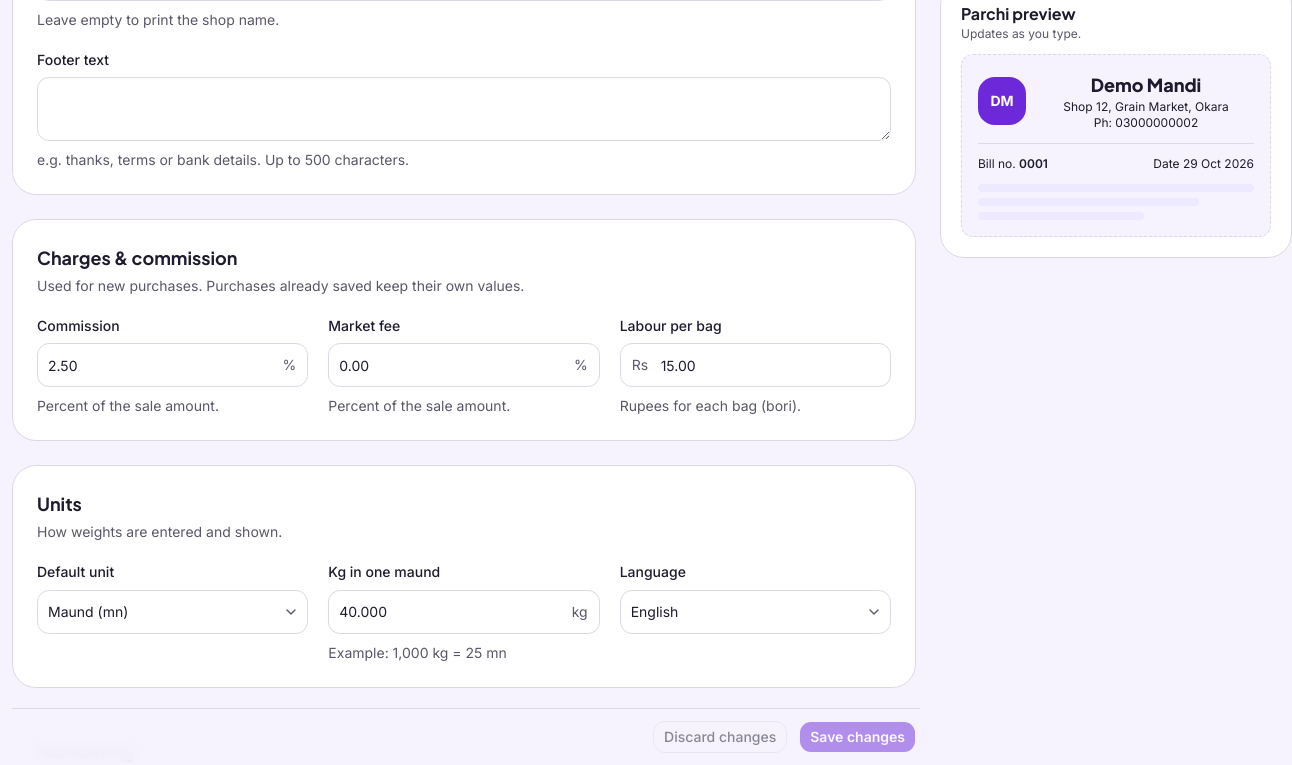
Test: SettingsForm › saving › sends nothing when the browser finds a mistake
The image size is (1292, 765).
(page scrolled)
Replace the text in the field labelled "Commission" with "101" at (173, 365), box [37,343,308,387]
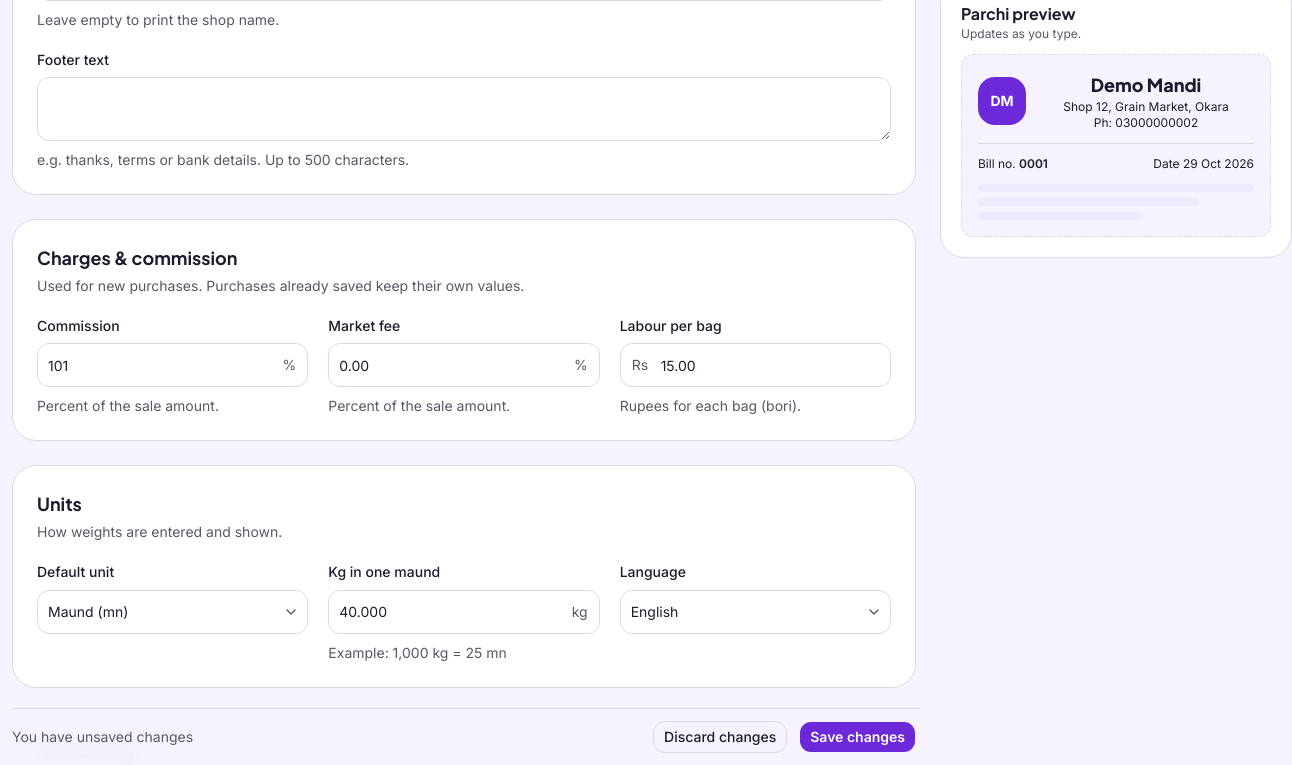
Replace the text in the field labelled "Kg in one maund" with "0" at (464, 612), box [328,590,600,634]
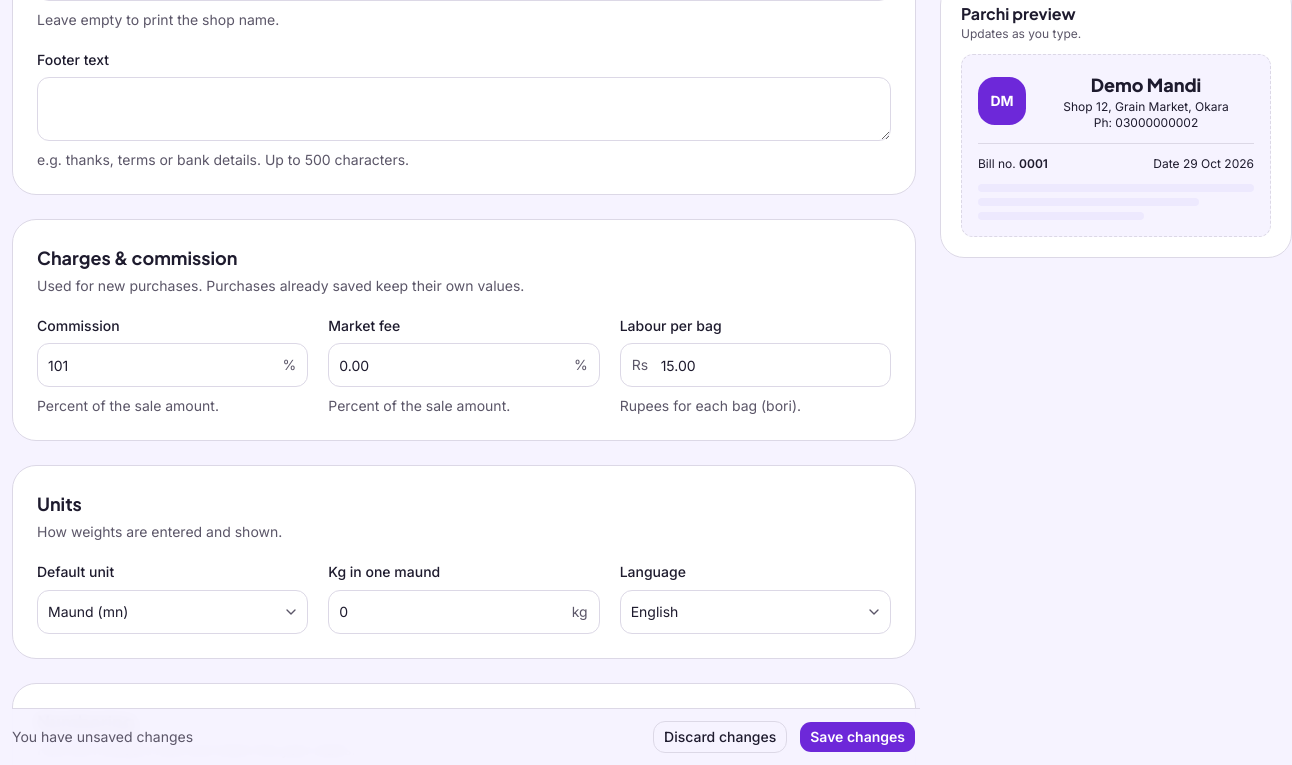
Click the button "Save changes" at (858, 737), box [799,721,916,753]
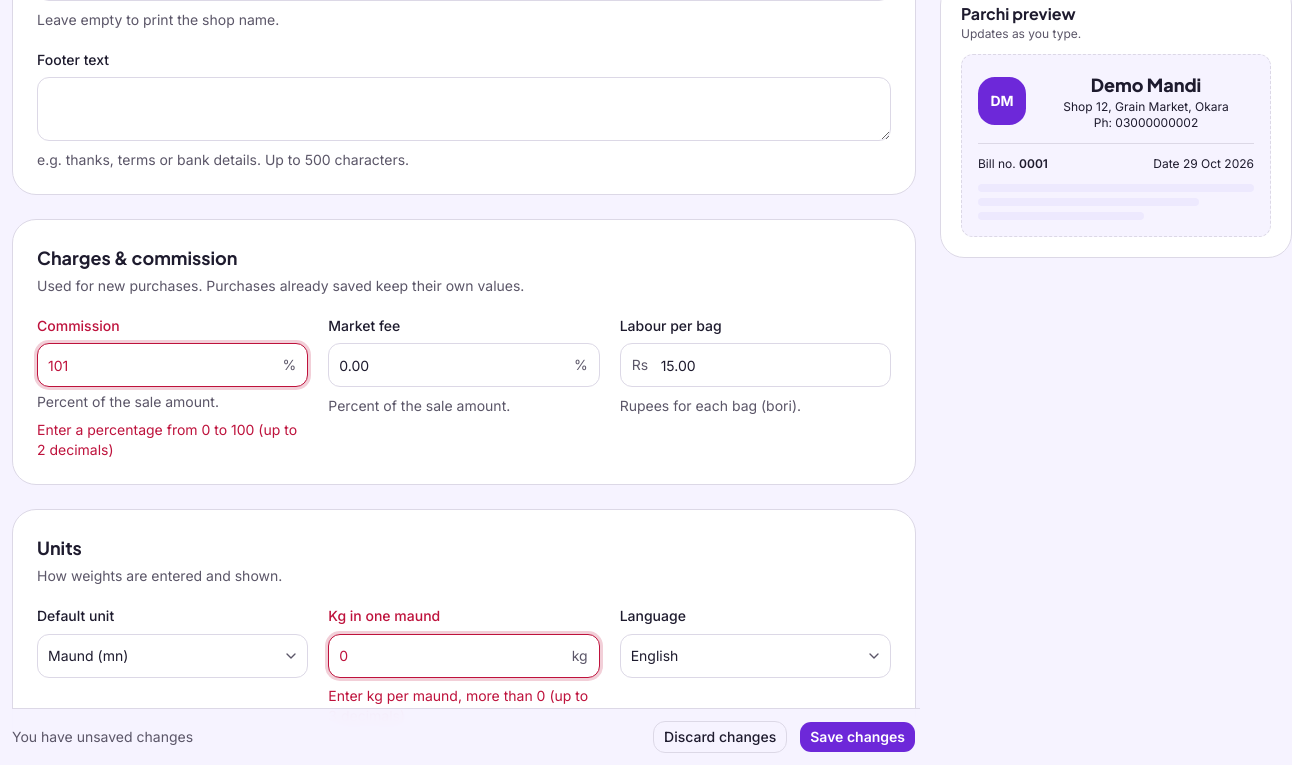
Expected: the text "Enter a percentage from 0 to 100 (up to 2 decimals)" is shown, [37,420,308,460]
Expected: the text "Enter kg per maund, more than 0 (up to 3 decimals)" is shown, [328,686,600,726]
